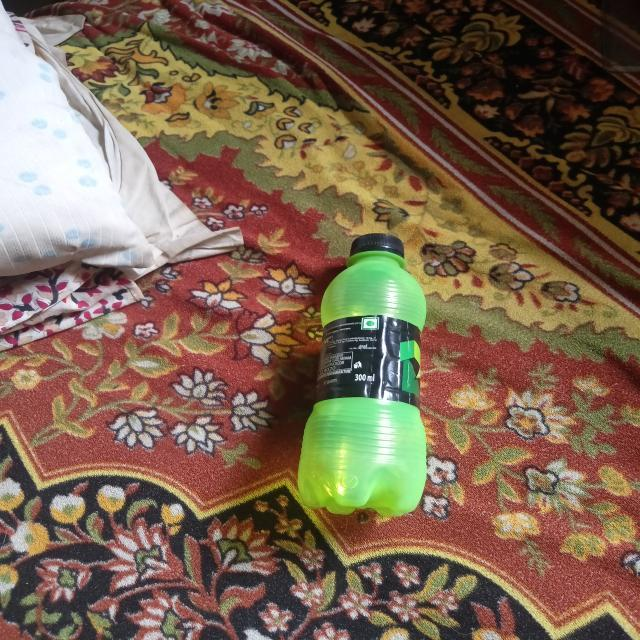good: (294, 230, 438, 522)
